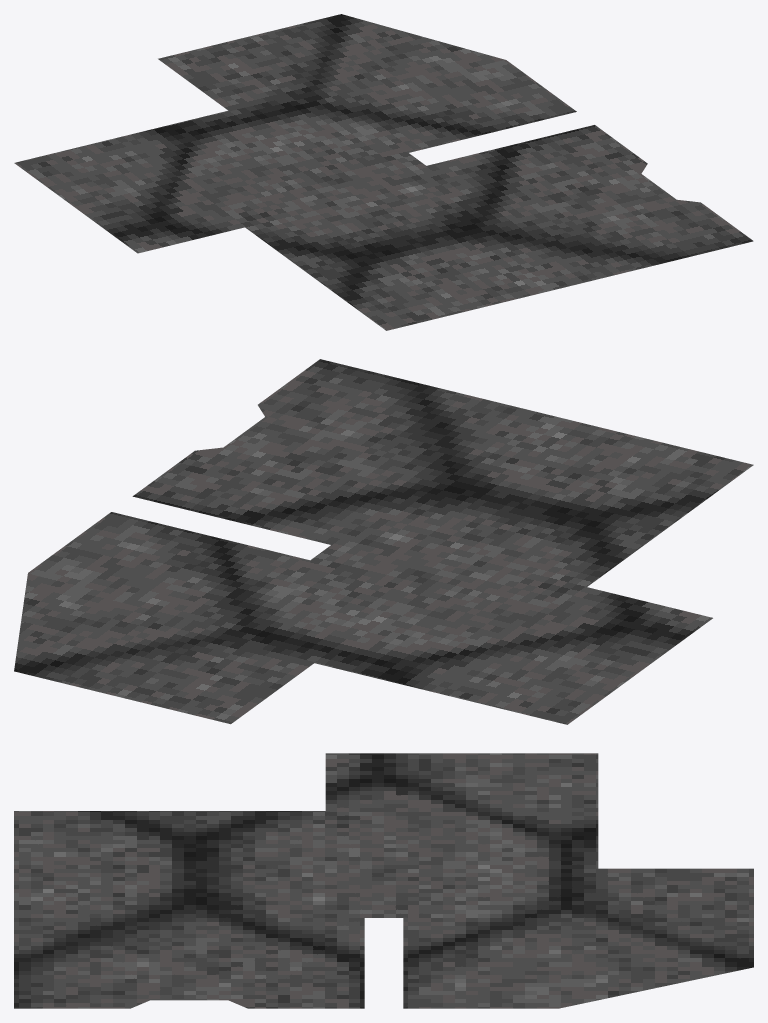
Rendered from F_BASHXL_2.obj.
The picture shows the model from 3 angles, top to bottom: view 1: azimuth 30°, elevation 25°; view 2: azimuth 150°, elevation 25°; view 3: azimuth 270°, elevation 25°; orthographic projection. The views are drawn at different scales.
Visible parts, largest first — view 1: F_BASHXL_2; view 2: F_BASHXL_2; view 3: F_BASHXL_2.
Boxes of the visible parts, x1=… form: F_BASHXL_2: x1=14, y1=14, x2=753, y2=330; F_BASHXL_2: x1=14, y1=359, x2=753, y2=724; F_BASHXL_2: x1=14, y1=753, x2=753, y2=1008.
Size of the model in its own units: 496 by 0 by 608.
